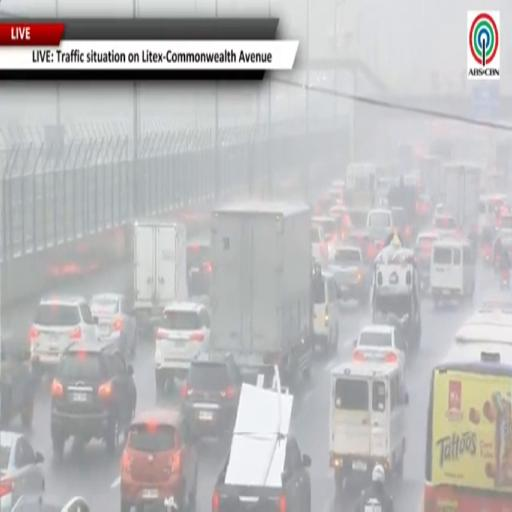bus: (423, 308, 511, 511)
car: (212, 384, 312, 511), (51, 342, 136, 460), (120, 409, 198, 511), (29, 295, 98, 373), (155, 302, 210, 395), (181, 354, 242, 437), (0, 431, 44, 510), (0, 336, 35, 428), (90, 294, 136, 359), (330, 246, 371, 306), (353, 325, 406, 369), (313, 272, 340, 354), (414, 231, 440, 290), (187, 243, 212, 296), (11, 495, 89, 511), (344, 231, 382, 263), (312, 217, 339, 256), (391, 207, 415, 246), (367, 208, 393, 243), (310, 226, 329, 268), (433, 214, 458, 237), (416, 194, 434, 221)
motorcycle: (501, 269, 509, 290)
truck: (209, 202, 314, 387), (134, 220, 188, 330), (443, 163, 481, 233), (344, 163, 377, 209), (420, 155, 443, 203)
